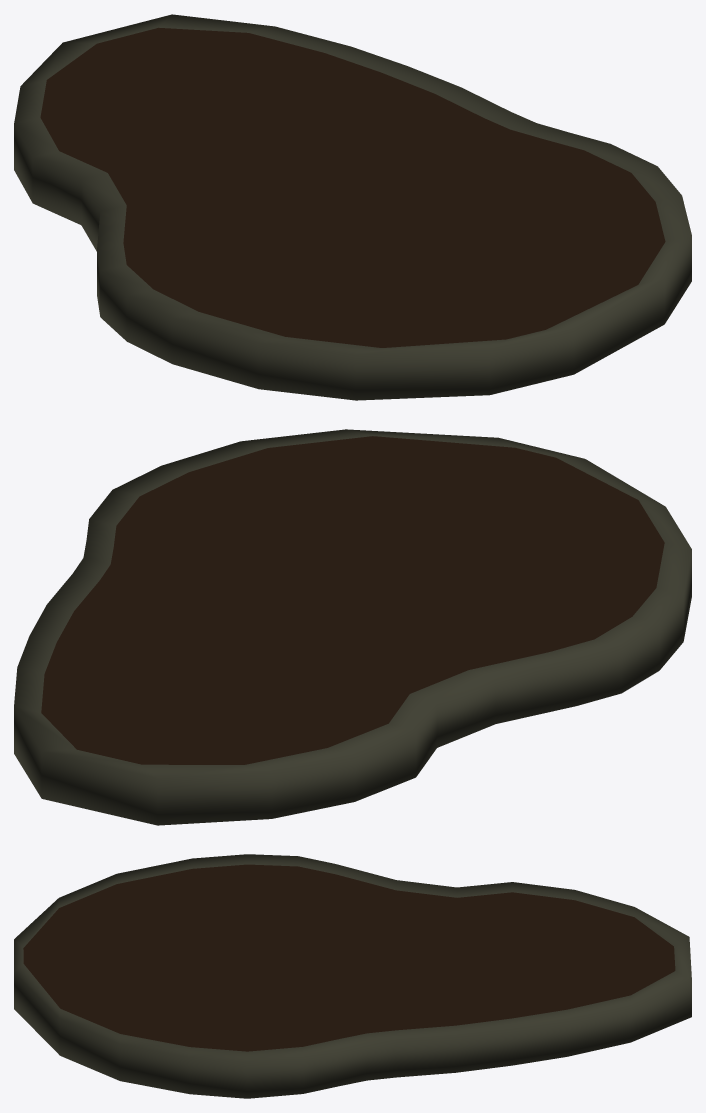
Rendered from MeatBurnt.glb.
3 renders of one model, top to bottom at view 1: azimuth 30°, elevation 25°; view 2: azimuth 150°, elevation 25°; view 3: azimuth 270°, elevation 25°, orthographic. The views are drawn at different scales.
Visible parts, largest first — view 1: Cube.132; view 2: Cube.132; view 3: Cube.132.
Boxes of the visible parts, x1,y1,x2,y2 form: Cube.132: [14, 14, 691, 400]; Cube.132: [14, 429, 691, 825]; Cube.132: [14, 854, 691, 1098].
Size of the model in its own units: 0.3424 by 0.0283 by 0.4722.
